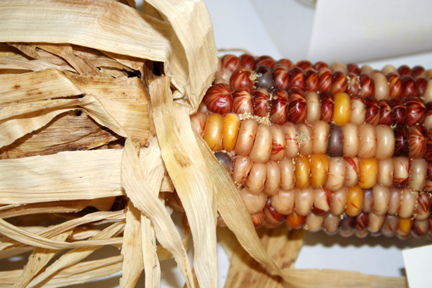corn: (188, 52, 431, 241)
